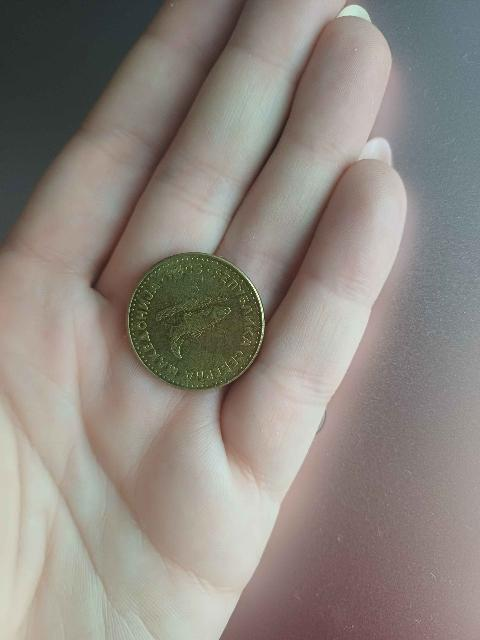2_coin: (128, 253, 264, 389)
